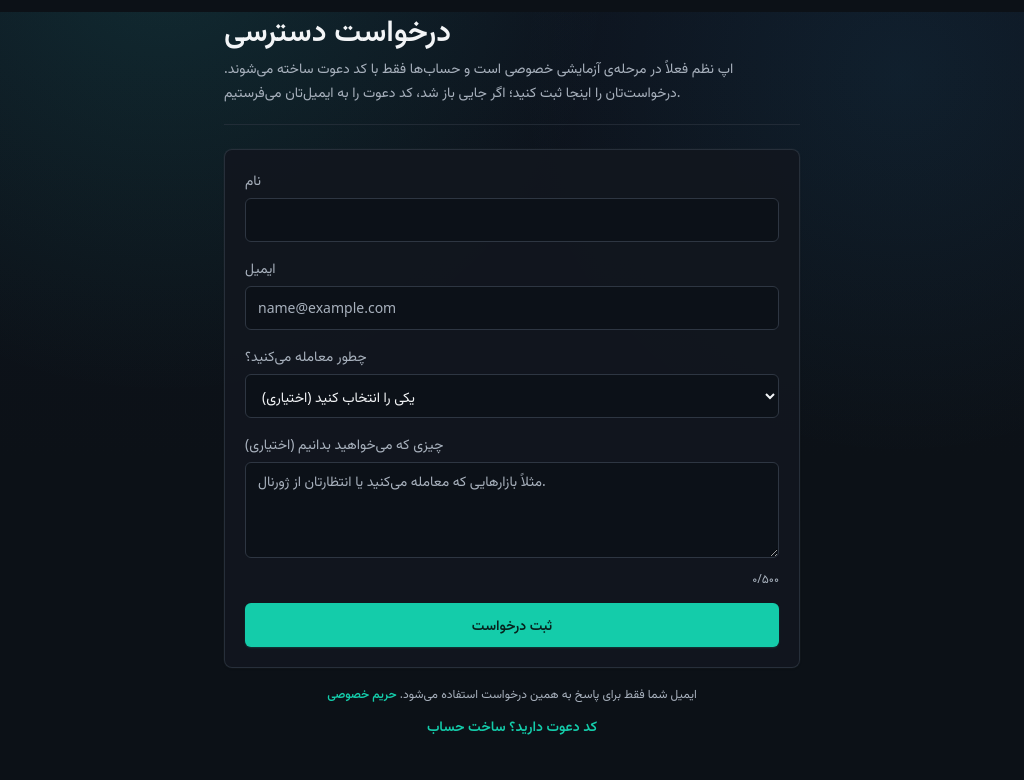
Scenario: RequestAccessScreen submit › posts the request as JSON in the page's language and shows the success state
Type "سارا رضایی" into the field labelled "نام".
click(512, 220); type("سارا رضایی")  # box [245,198,779,242]
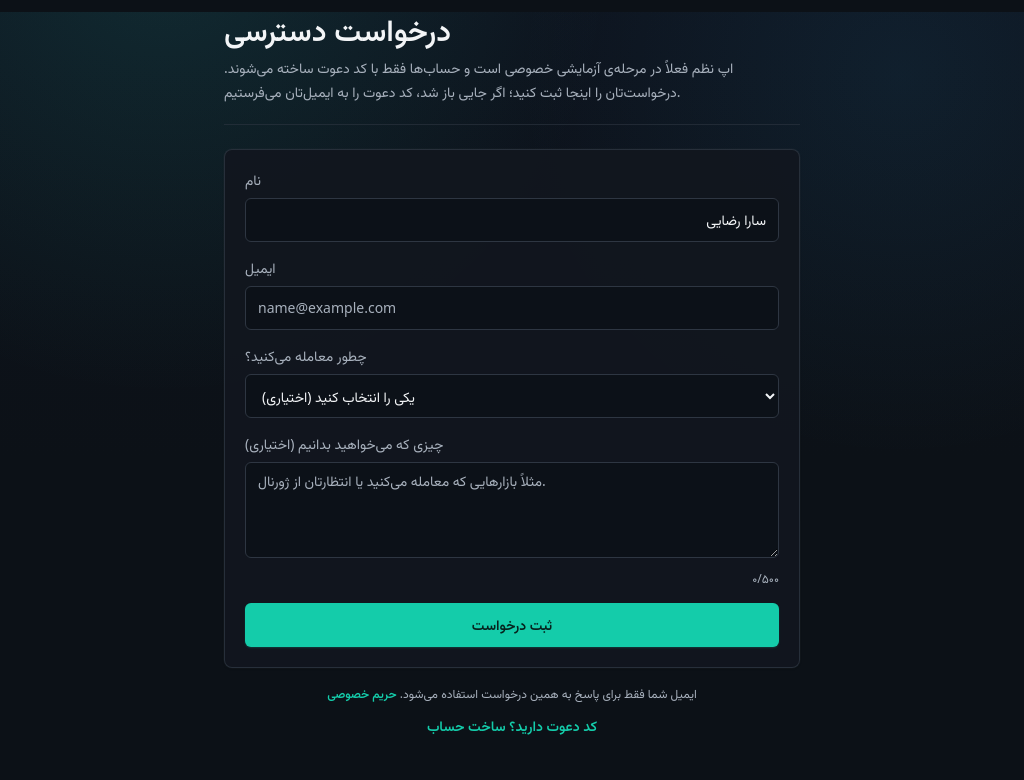
Type "sara@example.com" into the field labelled "ایمیل".
click(512, 308); type("sara@example.com")  # box [245,286,779,330]
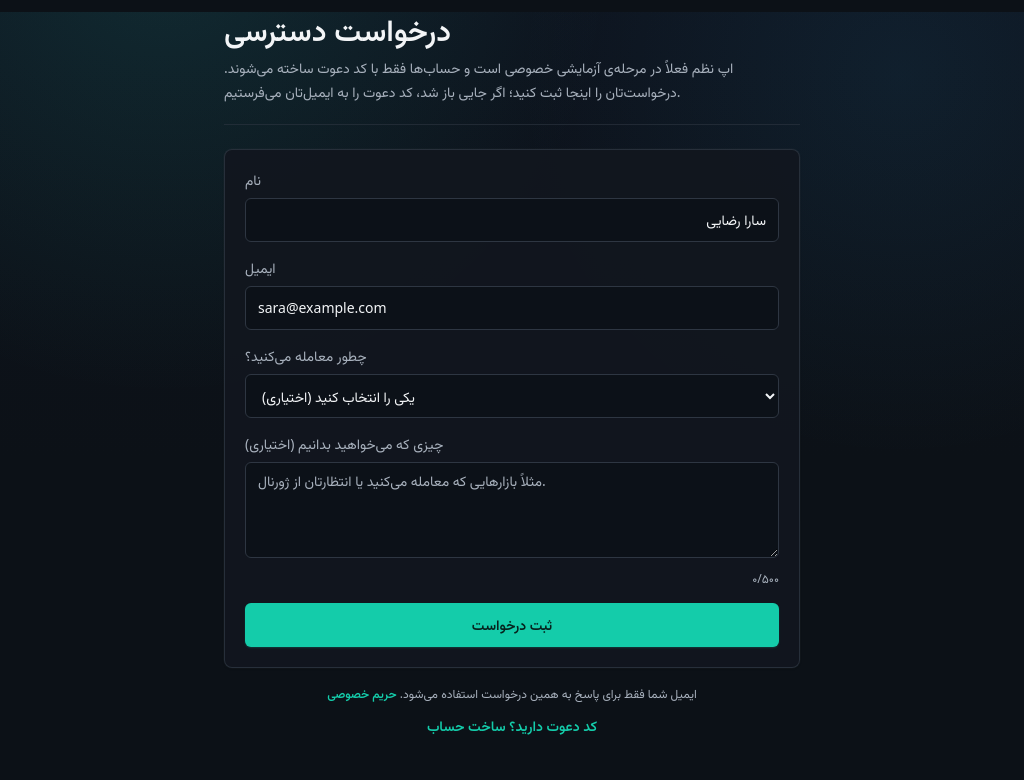
Select "با متاتریدر ۵ (MT5)" in the dropdown labelled "چطور معامله می‌کنید؟" at {"x": 512, "y": 396}, box [245,374,779,418]
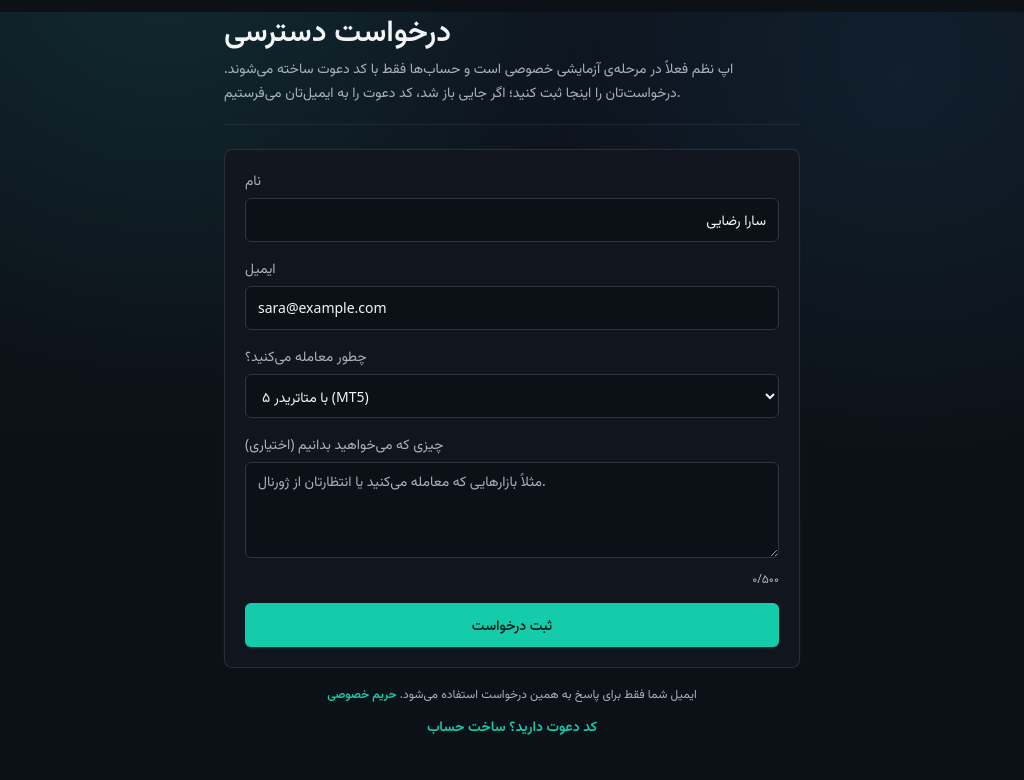
Type "ژورنال را در اکسل می‌نویسم" into the text box labelled "چیزی که می‌خواهید بدانیم (اختیاری)".
click(512, 510); type("ژورنال را در اکسل می‌نویسم")  # box [245,462,779,558]
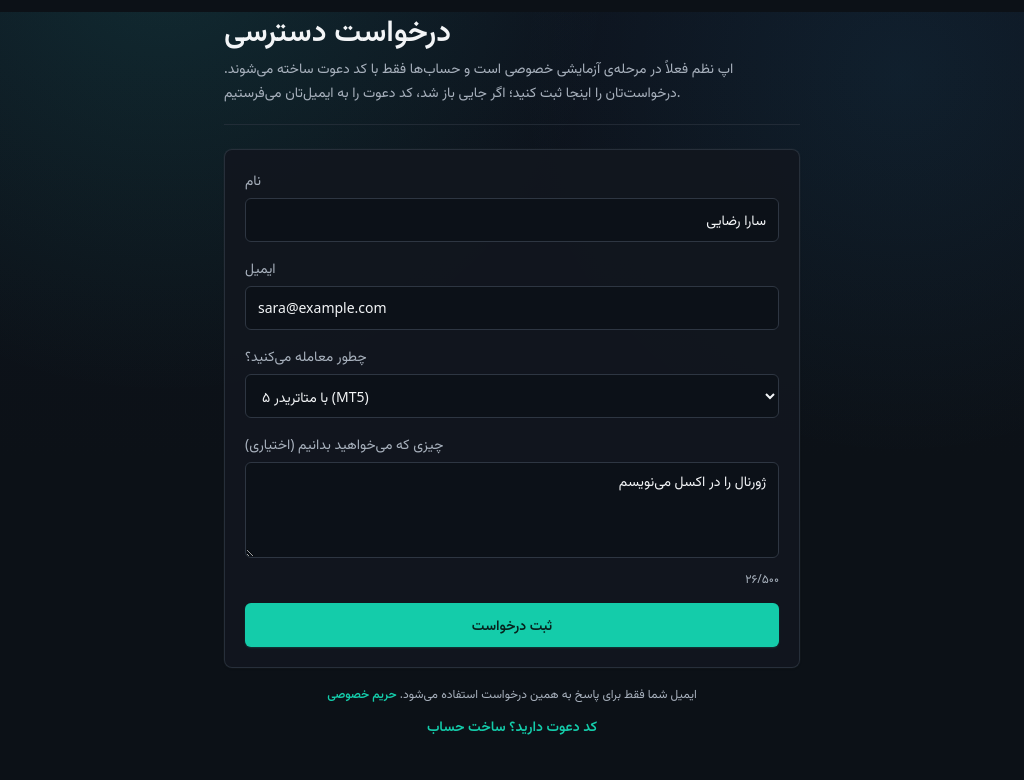
Click the button "ثبت درخواست".
click(512, 625)  # box [245,603,779,647]
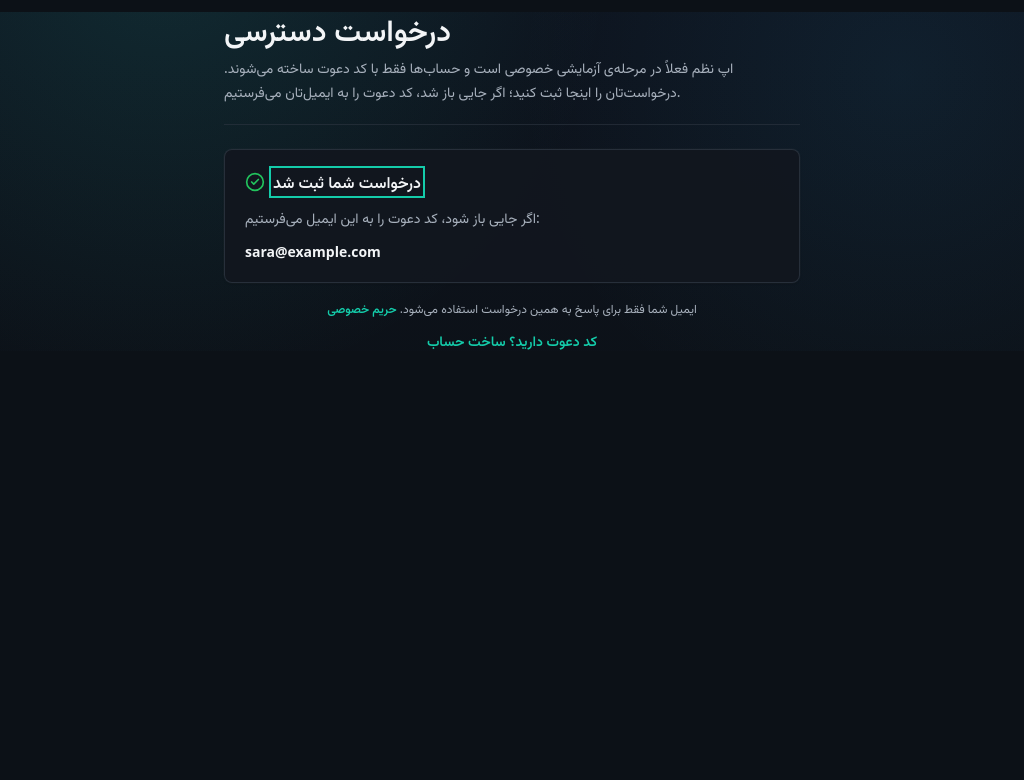
Expected: the heading "درخواست شما ثبت شد" is shown, [273,170,421,194]
Expected: the text "اگر جایی باز شود، کد دعوت را به این ایمیل می‌فرستیم:" is shown, [245,208,540,227]
Expected: the label labelled "نام" is gone
